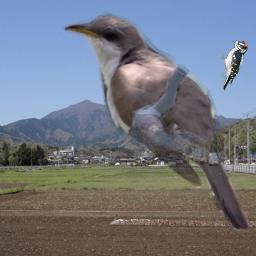Cuckoo: (60, 10, 249, 237)
Woodpecker: (221, 39, 248, 91)
